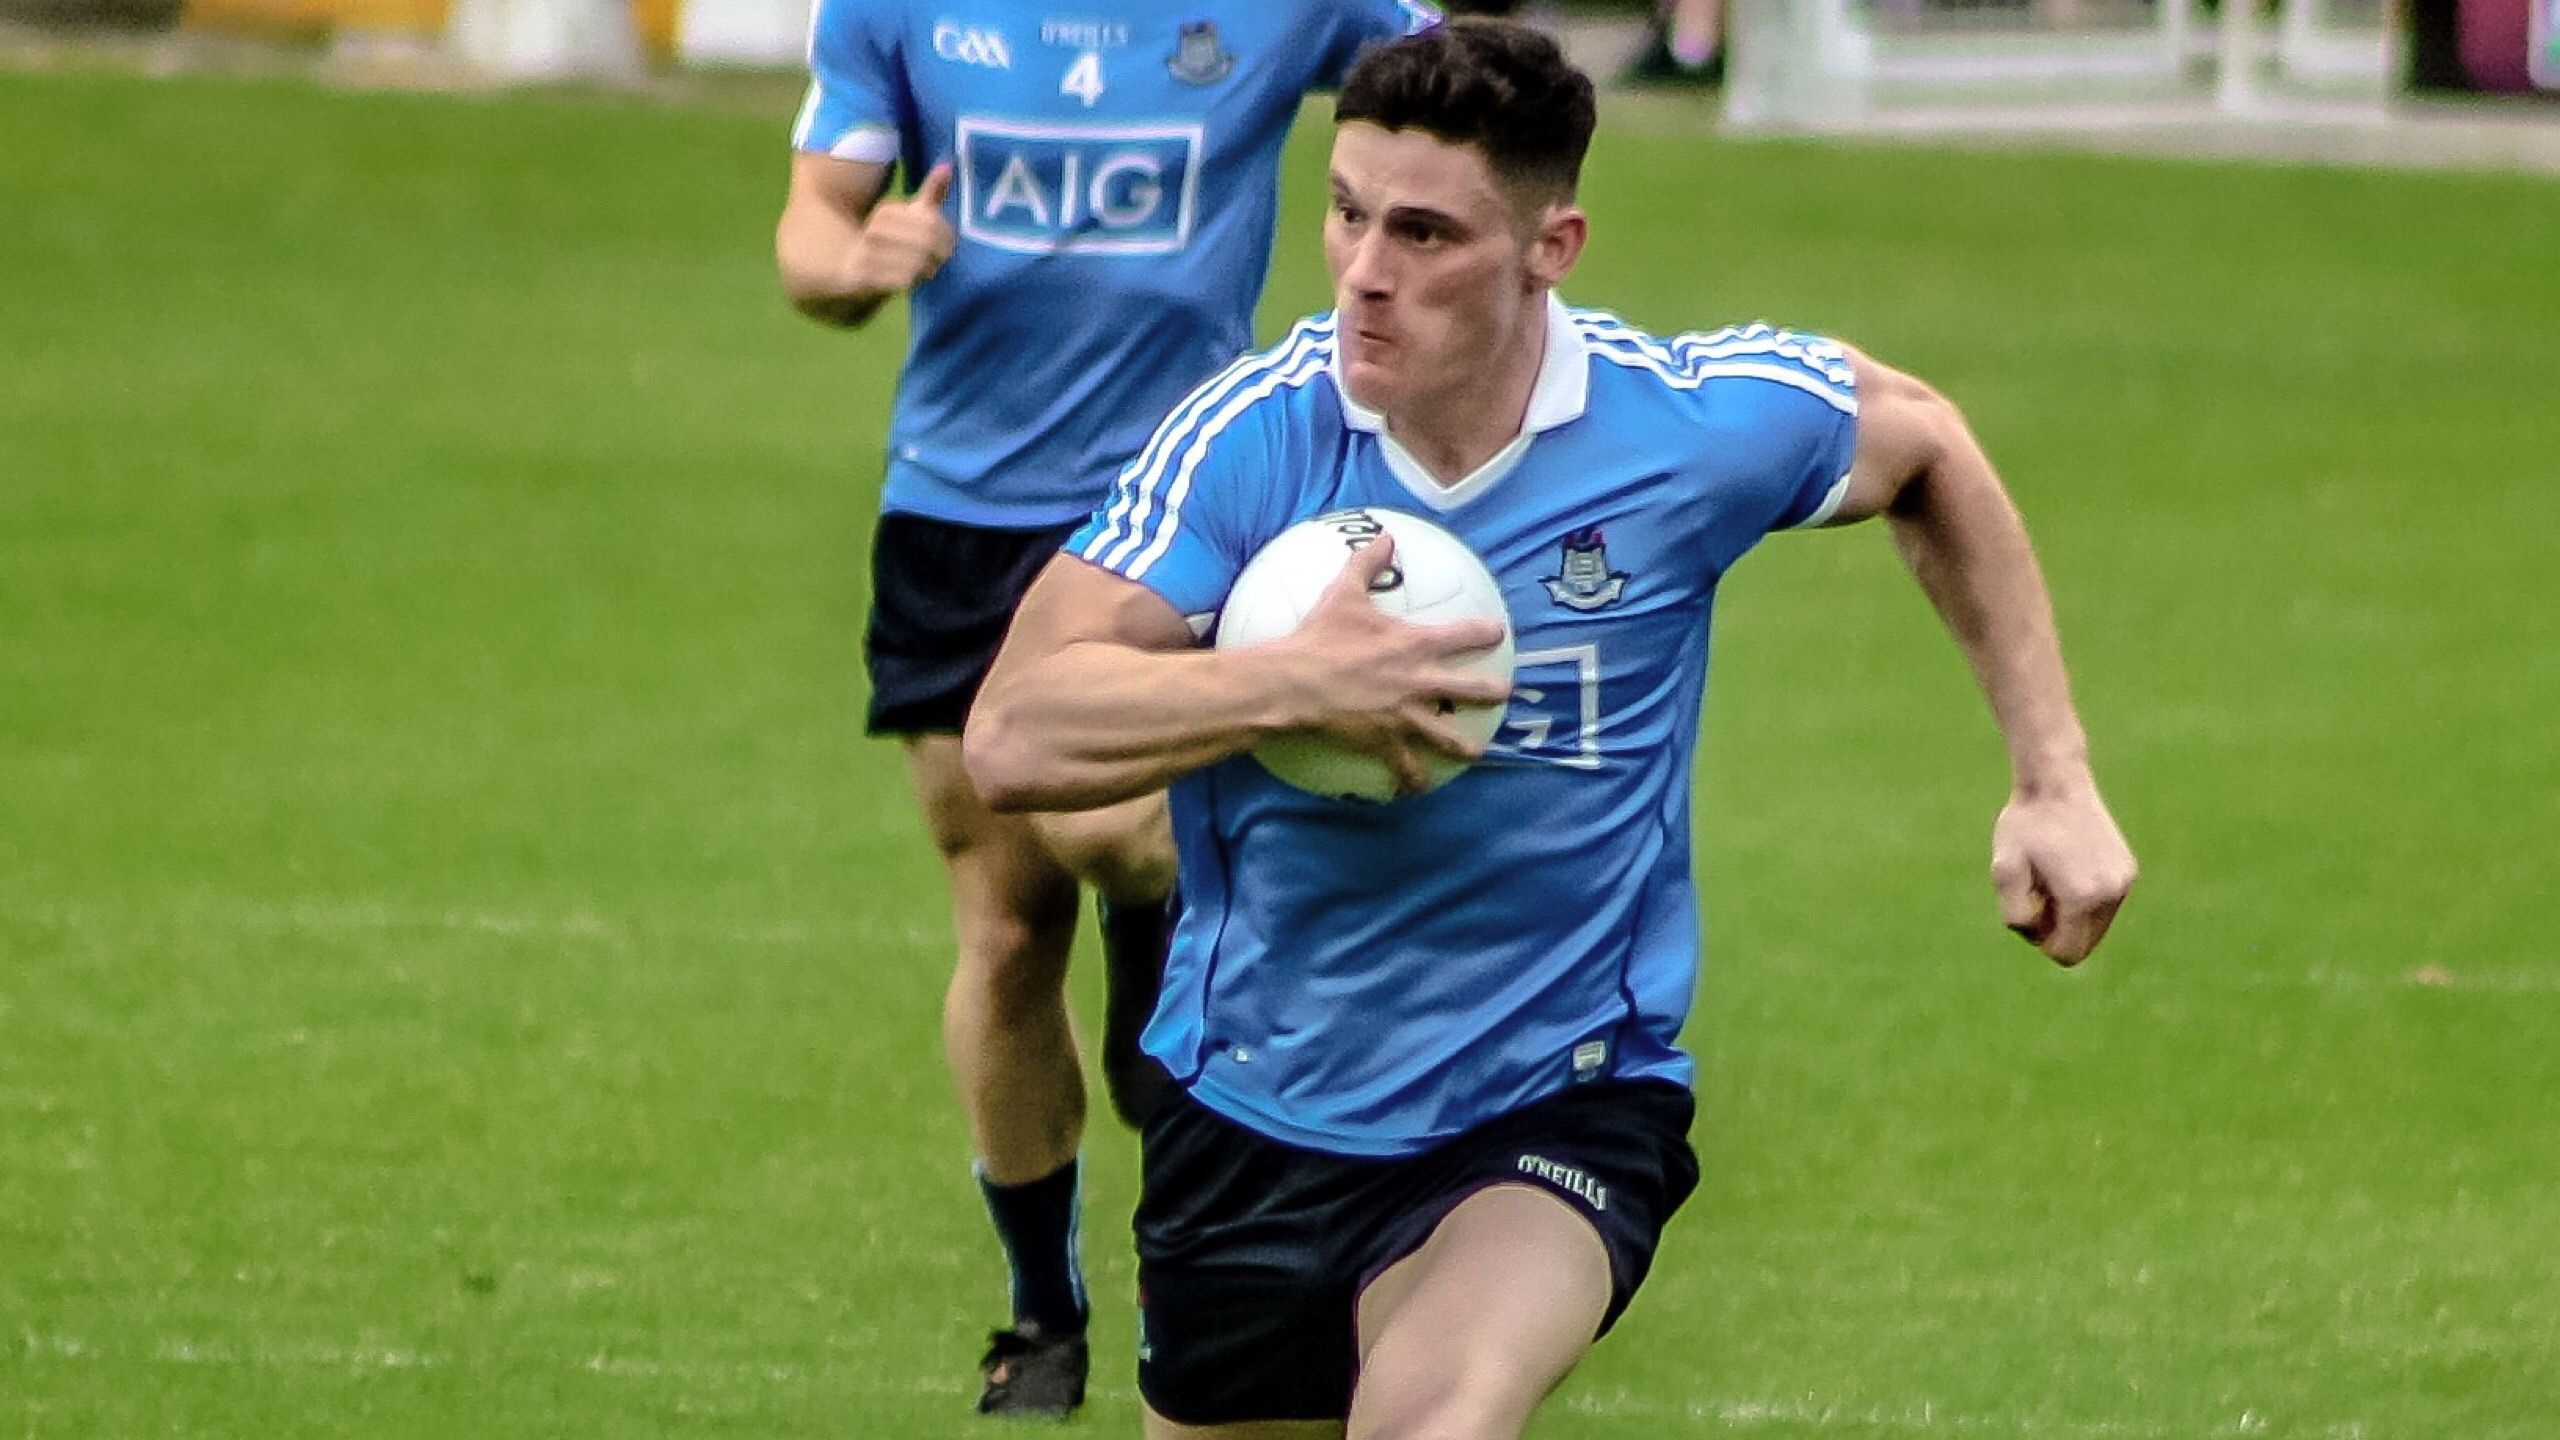ball: (1210, 518, 1521, 794)
player: (1139, 39, 1813, 1408), (810, 3, 1232, 1340)
